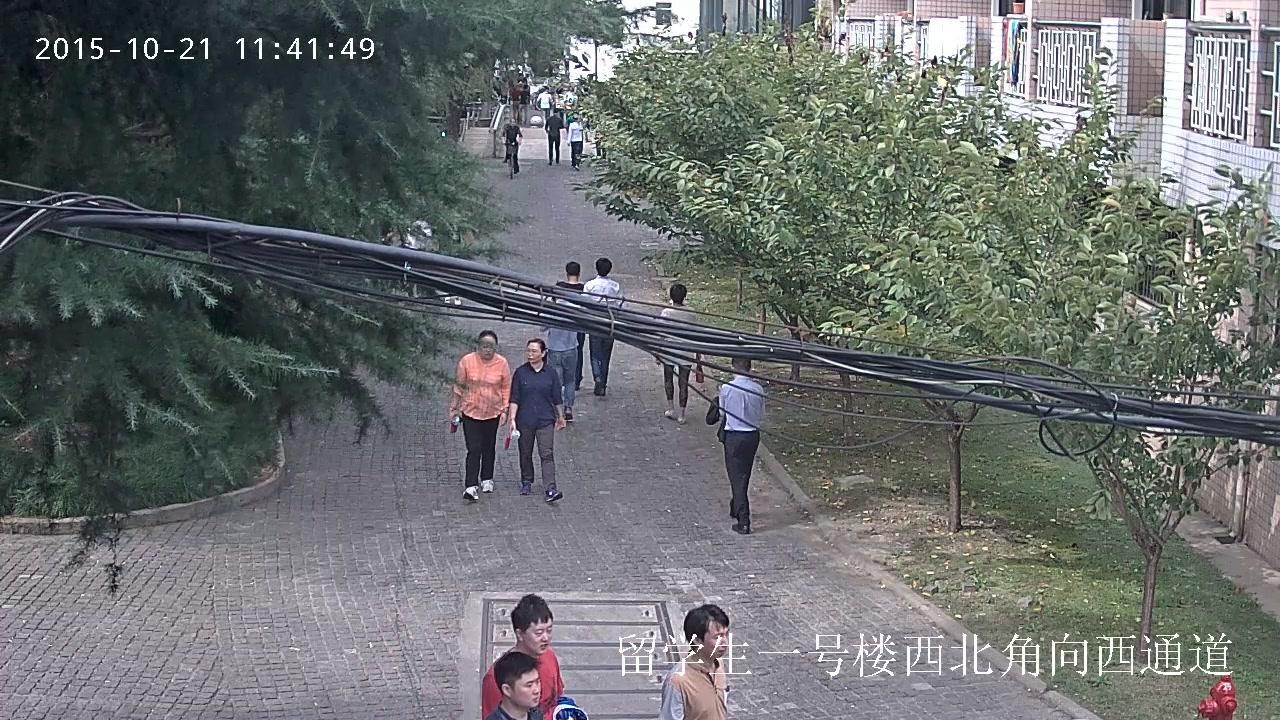face: (511, 668, 539, 706), (522, 618, 551, 654), (700, 621, 728, 658), (479, 335, 495, 360), (527, 342, 541, 362), (509, 119, 514, 125), (544, 88, 548, 92)
